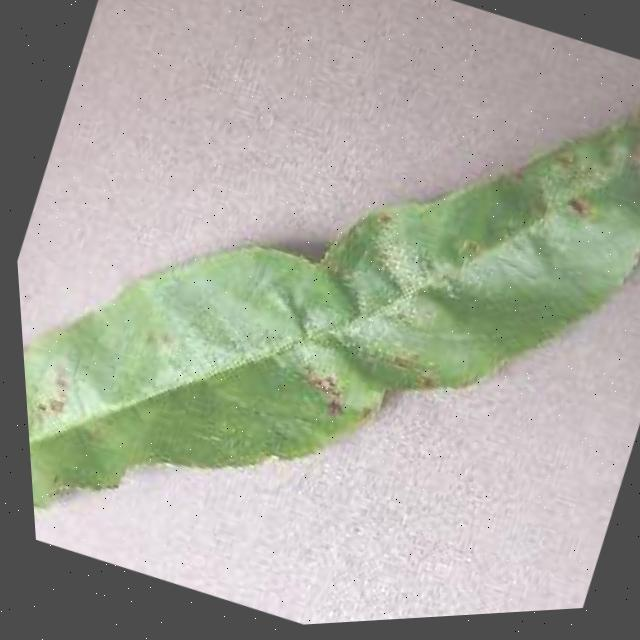Bacterial_spot: (268, 344, 365, 435), (24, 353, 93, 436), (537, 171, 611, 241)
